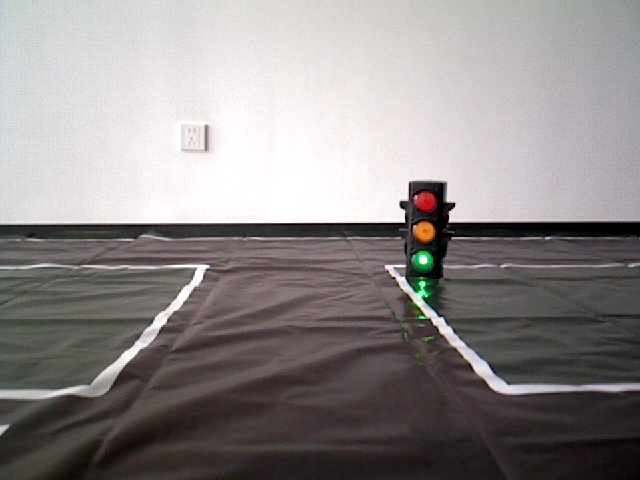green: (409, 183, 445, 276)
